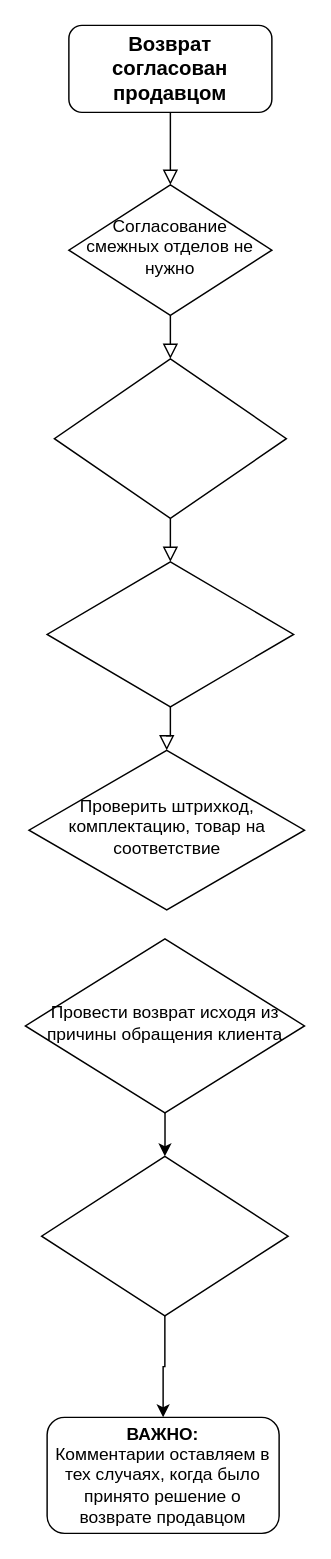
The diagram is 331 pixels wide and 1559 high, and some of its shapes have lost their labels. The shapes that lost their labels are listed below. From the top down, each one's centre as x and y in pixels, then its label:
At [169,437]: "Проверить наличие чата с согласованием возврата".
At [170,633]: "Сделать фотоподтверждение согласования заказа, хранить его в течении месяца".
At [164,1235]: "Возврат проводим с комментарием согласовано с продавцом".
